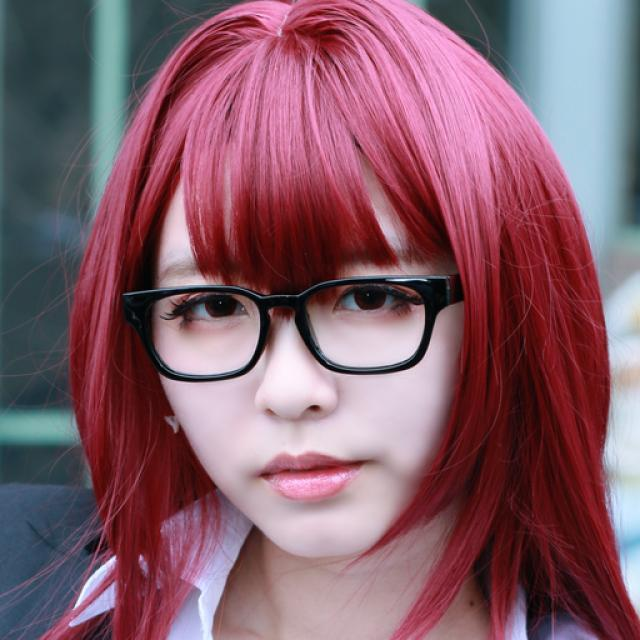neutral: (145, 178, 470, 558)
